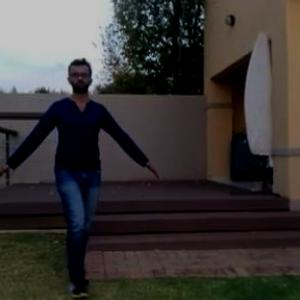land: (10, 67, 151, 281)
